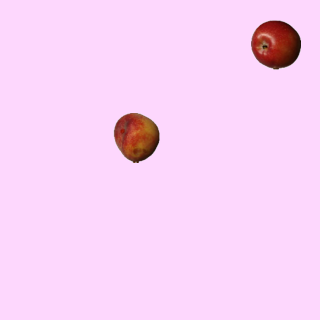Apple Braeburn: (250, 19, 300, 69)
Peach: (111, 112, 161, 162)
